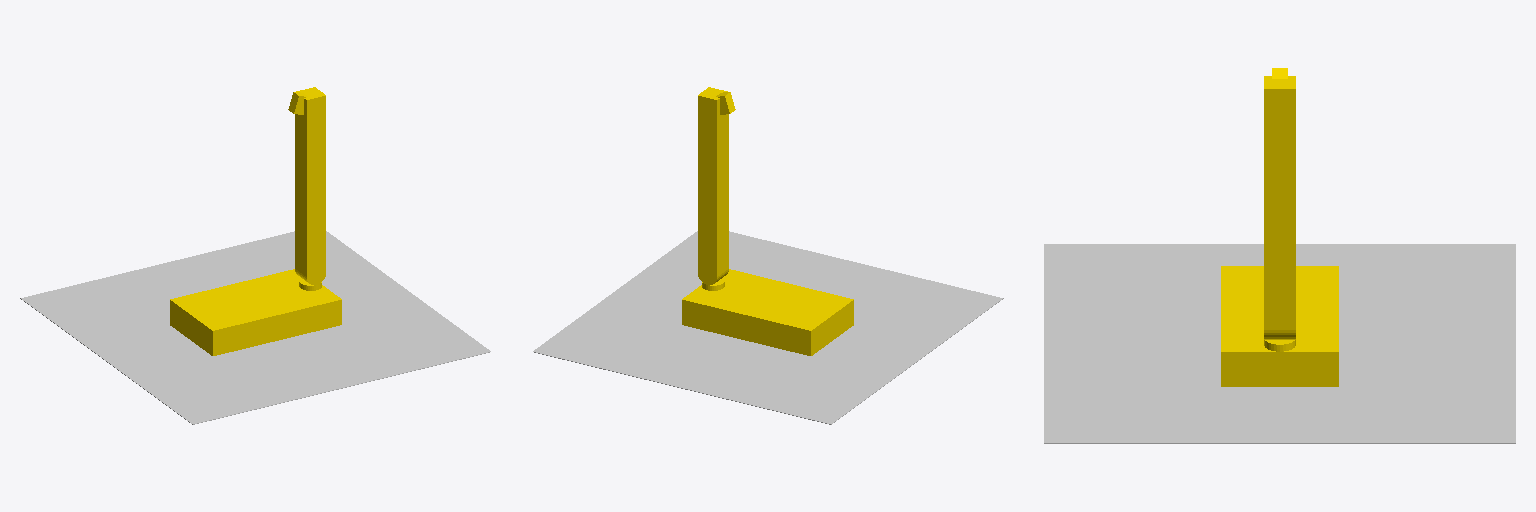
URDF robot description (rover_crane_sawyer):
<?xml version="1.0" ?>
<robot name="rover_crane_sawyer">

    <material name="black">
        <color rgba="0 0 0 1"/>
    </material>
    <material name="gold">
        <color rgba="1 0.882 0 1"/>
    </material>
    <material name="lunar_surface">
        <color rgba="0.85 0.85 0.85 1"/>
    </material>

    <material name="darkgray">
        <color rgba=".2 .2 .2 1"/>
    </material>
    <material name="darkred">
        <color rgba=".5 .1 .1 1"/>
        </material>
    <material name="sawyer_red">
        <color rgba=".5 .1 .1 1"/>
        </material>
    <material name="sawyer_gray">
        <color rgba="0.75294 0.75294 0.75294 1"/>
    </material>

<!-- Start Rover -->
    <!-- Base -->
    <link name="rover_base_link">
        <visual>
            <origin xyz="0 0 0.005" rpy="0 0 0" />
            <geometry>
               <box size="6 6 0.01"/>
            </geometry>
            <material name="lunar_surface"/>
        </visual>
        <collision>
            <origin xyz="0 0 0.005" rpy="0 0 0" />
            <geometry>
                <box size="6 6 0.01"/>
            </geometry>
        </collision>   
        
        <visual>
            <origin xyz="0 0 0.25" rpy="0 0 0" />
            <geometry>
               <box size="2.6 1.5 0.5"/>
            </geometry>
            <material name="gold"/>
        </visual>
        <collision>
            <origin xyz="0 0 0.25" rpy="0 0 0" />
            <geometry>
                <box size="2.6 1.5 0.5"/>
            </geometry>
        </collision>   
    </link>
    
    <link name="crane_yaw">
        <visual>
            <origin xyz="0 0 0.05" rpy="0 0 0" />
            <geometry>
               <cylinder length="0.1" radius="0.2"/>
            </geometry>
            <material name="gold"/>
        </visual>
        <collision>
            <origin xyz="0 0 0.05" rpy="0 0 0" />
            <geometry>
                <cylinder length="0.1" radius="0.2"/>
            </geometry>
        </collision>    
    </link>
    
    <joint name="joint0_1" type="revolute">
        <parent link="rover_base_link"/>
        <child link="crane_yaw"/>
        <origin xyz="1.1 0 0.5" rpy="0 0 0"/>
        <axis xyz="0 0 1"/>
        <limit lower="-0.523599" upper="0.523599" effort="0" velocity="0"/>
    </joint>

    <link name="crane_link1">
        <visual>
            <origin xyz="0 0 0" rpy="1.5708 0 0" />
            <geometry>
               <cylinder length="0.4" radius="0.2"/>
            </geometry>
            <material name="gold"/>
        </visual>
        <collision>
            <origin xyz="0 0 0" rpy="1.5708 0 0" />
            <geometry>
                <cylinder length="0.4" radius="0.2"/>
            </geometry>
        </collision>  

        <visual>
            <origin xyz="-1.698 0 0" rpy="0 0 0" />
            <geometry>
               <box size="3.396 0.4 0.4"/>
            </geometry>
            <material name="gold"/>
        </visual>
        <collision>
            <origin xyz="-1.698 0 0" rpy="0 0 0" />
            <geometry>
                <box size="3.396 0.4 0.4"/>
            </geometry>
        </collision>
    </link>


    <joint name="joint0_2" type="revolute">
        <parent link="crane_yaw"/> 
        <child link="crane_link1"/>
        <origin xyz="0 0 0.3" rpy="0 1.5708 0"/>
        <axis xyz="0 1 0"/>
        <limit lower="0.0" upper="1.5708" effort="0" velocity="0"/>
    </joint>


    <link name="crane_link2">
        <visual>
            <origin xyz="1.132 0 0" rpy="0 0 0" />
            <geometry>
               <box size="2.264 0.2 0.2"/>
            </geometry>
            <material name="gold"/>
        </visual>
        <collision>
            <origin xyz="1.132 0 0" rpy="0 0 0" />
            <geometry>
                <box size="2.264 0.2 0.2"/>
            </geometry>
        </collision>
    </link>

    <joint name="joint0_3" type="prismatic">
        <parent link="crane_link1"/>
        <child link="crane_link2"/>
        <origin xyz="-3.396 0 0" rpy="0 0 0"/>
        <axis xyz="-1 0 0"/>
        <limit lower="0.0" upper="2.264" effort="0" velocity="0"/>
    </joint>
    
    <link name="tip">
        <visual>
            <!-- z = (-0.17 - 0.1) -->
            <origin xyz="-0.1 0 -0.17" rpy="0 1.5708 0" />
            <geometry>
               <box size="0.34 0.2 0.2"/>
            </geometry>
            <material name="gold"/>
        </visual>
        <collision>
            <origin xyz="-0.1 0 -0.17" rpy="0 1.5708 0" />
            <geometry>
                <box size="0.34 0.2 0.2"/>
            </geometry>
        </collision>   
    </link>

    <joint name="tip_joint" type="fixed">
        <parent link="crane_link2"/>
        <child link="tip"/>
        <origin xyz="0 0 -0.1" rpy="0 -1.26165662836 0"/>
    </joint>

<!-- START SAWYER -->
  <link name="base"/>

<!-- CHANGE WHERE SAWYER IS PLACED HERE -->
<!-- SAWYER ATTACHED TO ARM TIP
    <joint name="sawyer_rover_fix" type="fixed">
        <parent link="tip"/>
        <child link="base"/>
        <origin xyz="0 0 0" rpy="0 0 0"/>
    </joint>
-->
<!-- <box size="2.4 1.5 0.5"/> -->
<!-- SAWYER ATTACHED TO ROVER DECK
    <joint name="sawyer_rover_fix" type="fixed">
        <parent link="rover_base_link"/>
        <child link="base"/>
        <origin xyz="0 0 0.5" rpy="0 0 0"/>
    </joint>
-->
<!-- SAWYER ATTACHED TO ROVER FRONT BUMPER -->
    <joint name="sawyer_rover_fix" type="fixed">
        <parent link="rover_base_link"/>
        <child link="base"/>
        <origin xyz="-1.0 0.5 0.5" rpy="0 0 0"/>
    </joint>

  <link name="torso">
    <visual>
      <origin rpy="0 0 0" xyz="0 0 0"/>
      <geometry>
        <box size="0.001 0.001 0.001"/>
      </geometry>
      <material name="darkgray">
        <color rgba=".2 .2 .2 1"/>
      </material>
    </visual>
  </link>

  <joint name="right_arm_mount" type="fixed">
    <origin rpy="0 0 0" xyz="0.0 0.0 0.0"/>
    <parent link="base"/>
    <child link="right_arm_base_link"/>
  </joint>

  <joint name="torso_t0" type="fixed">
    <origin rpy="0 0 0" xyz="0 0 0"/>
    <parent link="base"/>
    <child link="torso"/>
  </joint>

  <link name="right_arm_base_link">
    <inertial>
      <origin rpy="0 0 0" xyz="-0.0006241 -2.8025E-05 0.065404"/>
      <mass value="2.0687"/>
      <inertia ixx="0.0067599" ixy="-4.2024E-05" ixz="-6.1904E-07" iyy="0.0067877" iyz="1.5888E-05" izz="0.0074031"/>
    </inertial>
    <visual>
      <origin rpy="0 0 0" xyz="0 0 0"/>
      <geometry>
        <mesh filename="package://../sawyer/meshes/sawyer_pv/base.DAE"/>
      </geometry>
      <material name="sawyer_red"/>
    </visual>
    <collision>
      <origin rpy="0 0 0" xyz="0 0 0.12"/>
      <geometry>
        <cylinder length="0.24" radius="0.08"/>
      </geometry>
    </collision>
  </link>

  <link name="right_l0">
    <inertial>
      <origin rpy="0 0 0" xyz="0.024366 0.010969 0.14363"/>
      <mass value="5.3213"/>
      <inertia ixx="0.053314" ixy="0.0047093" ixz="0.011734" iyy="0.057902" iyz="0.0080179" izz="0.023659"/>
    </inertial>
    <visual>
      <origin rpy="0 0 0" xyz="0 0 0"/>
      <geometry>
        <mesh filename="package://../sawyer/meshes/sawyer_mp3/l0.DAE"/>
      </geometry>
      <material name="sawyer_red"/>
    </visual>
    <collision>
      <origin rpy="0 0 0" xyz="0.08 0 0.23"/>
      <geometry>
        <sphere radius="0.07"/>
      </geometry>
    </collision>
  </link>

  <joint name="right_j0" type="revolute">
    <origin rpy="0 0 0" xyz="0 0 0.08"/>
    <parent link="right_arm_base_link"/>
    <child link="right_l0"/>
    <axis xyz="0 0 1"/>
    <limit effort="80.0" lower="-3.0503" upper="3.0503" velocity="1.74"/>
  </joint>

  <link name="right_torso_itb">
  </link>

  <joint name="right_torso_itb" type="fixed">
    <origin rpy="0 -1.57079632679 0" xyz="-.055 0 .22"/>
    <parent link="right_l0"/>
    <child link="right_torso_itb"/>
    <axis xyz="0 0 1"/>
  </joint>
  <link name="right_l1">
    <inertial>
      <origin rpy="0 0 0" xyz="-0.0030849 -0.026811 0.092521"/>
      <mass value="4.505"/>
      <inertia ixx="0.022398" ixy="-0.00023986" ixz="-0.00029362" iyy="0.014613" iyz="-0.0060875" izz="0.017295"/>
    </inertial>
    <visual>
      <origin rpy="0 0 0" xyz="0 0 0"/>
      <geometry>
        <mesh filename="package://../sawyer/meshes/sawyer_mp3/l1.DAE"/>
      </geometry>
      <material name="sawyer_red"/>
    </visual>
    <collision>
      <origin rpy="0 0 0" xyz="0 0 0.1225"/>
      <geometry>
        <sphere radius="0.07"/>
      </geometry>
    </collision>
  </link>

  <joint name="right_j1" type="revolute">
    <origin rpy="-1.57079632679 1.57079632679 0" xyz="0.081 0.05 0.237"/>
    <parent link="right_l0"/>
    <child link="right_l1"/>
    <axis xyz="0 0 1"/>
    <limit effort="80.0" lower="-3.8095" upper="2.2736" velocity="1.328"/>
  </joint>
  <link name="right_l2">
    <inertial>
      <origin rpy="0 0 0" xyz="-0.00016044 -0.014967 0.13582"/>
      <mass value="1.745"/>
      <inertia ixx="0.025506" ixy="4.4101E-06" ixz="1.4955E-05" iyy="0.0253" iyz="-0.0033204" izz="0.0034179"/>
    </inertial>
    <visual>
      <origin rpy="0 0 0" xyz="0 0 0"/>
      <geometry>
        <mesh filename="package://../sawyer/meshes/sawyer_pv/l2.DAE"/>
      </geometry>
      <material name="sawyer_red"/>
    </visual>
    <collision>
      <origin rpy="0 0 0" xyz="0 0 0.08"/>
      <geometry>
        <cylinder length="0.34" radius="0.06"/>
      </geometry>
    </collision>
  </link>
  <joint name="right_j2" type="revolute">
    <origin rpy="1.57079632679 0 0" xyz="0 -0.14 0.1425"/>
    <parent link="right_l1"/>
    <child link="right_l2"/>
    <axis xyz="0 0 1"/>
    <limit effort="40.0" lower="-3.0426" upper="3.0426" velocity="1.957"/>
  </joint>
  <link name="right_l3">
    <inertial>
      <origin rpy="0 0 0" xyz="-0.0048135 -0.0281 -0.084154"/>
      <mass value="2.5097"/>
      <inertia ixx="0.01016" ixy="-9.7452E-06" ixz="0.00026624" iyy="0.0065685" iyz="0.0030316" izz="0.0069078"/>
    </inertial>
    <visual>
      <origin rpy="0 0 0" xyz="0 0 0"/>
      <geometry>
        <mesh filename="package://../sawyer/meshes/sawyer_pv/l3.DAE"/>
      </geometry>
      <material name="sawyer_red"/>
    </visual>
    <collision>
      <origin rpy="0 0 0" xyz="0 -0.01 -0.12"/>
      <geometry>
        <sphere radius="0.06"/>
      </geometry>
    </collision>
  </link>
  <joint name="right_j3" type="revolute">
    <origin rpy="-1.57079632679 0 0" xyz="0 -0.042 0.26"/>
    <parent link="right_l2"/>
    <child link="right_l3"/>
    <axis xyz="0 0 1"/>
    <limit effort="40.0" lower="-3.0439" upper="3.0439" velocity="1.957"/>
  </joint>
  <link name="right_l4">
    <inertial>
      <origin rpy="0 0 0" xyz="-0.0018844 0.0069001 0.1341"/>
      <mass value="1.1136"/>
      <inertia ixx="0.013557" ixy="1.8109E-05" ixz="0.00013523" iyy="0.013555" iyz="0.0010561" izz="0.0013658"/>
    </inertial>
    <visual>
      <origin rpy="0 0 0" xyz="0 0 0"/>
      <geometry>
        <mesh filename="package://../sawyer/meshes/sawyer_pv/l4.DAE"/>
      </geometry>
      <material name="sawyer_red"/>
    </visual>
    <collision>
      <origin rpy="0 0 0" xyz="0 0 0.11"/>
      <geometry>
        <cylinder length="0.30" radius="0.045"/>
      </geometry>
    </collision>
  </link>
  <joint name="right_j4" type="revolute">
    <origin rpy="1.57079632679 0 0" xyz="0 -0.125 -0.1265"/>
    <parent link="right_l3"/>
    <child link="right_l4"/>
    <axis xyz="0 0 1"/>
    <limit effort="9.0" lower="-2.9761" upper="2.9761" velocity="3.485"/>
  </joint>
  <link name="right_arm_itb">

  </link>
  <joint name="right_arm_itb" type="fixed">
    <origin rpy="0 -1.57079632679 0" xyz="-.055 0 .075"/>
    <parent link="right_l4"/>
    <child link="right_arm_itb"/>
    <axis xyz="0 0 1"/>
  </joint>
  <link name="right_l5">
    <inertial>
      <origin rpy="0 0 0" xyz="0.0061133 -0.023697 0.076416"/>
      <mass value="1.5625"/>
      <inertia ixx="0.0047328" ixy="0.00011526" ixz="4.6269E-05" iyy="0.0029676" iyz="-0.0011557" izz="0.0031762"/>
    </inertial>
    <visual>
      <origin rpy="0 0 0" xyz="0 0 0"/>
      <geometry>
        <mesh filename="package://../sawyer/meshes/sawyer_pv/l5.DAE"/>
      </geometry>
      <material name="sawyer_red"/>
    </visual>
    <collision>
      <origin rpy="0 0 0" xyz="0 0 0.1"/>
      <geometry>
        <sphere radius="0.06"/>
      </geometry>
    </collision>
  </link>
  <joint name="right_j5" type="revolute">
    <origin rpy="-1.57079632679 0 0" xyz="0 0.031 0.275"/>
    <parent link="right_l4"/>
    <child link="right_l5"/>
    <axis xyz="0 0 1"/>
    <limit effort="9.0" lower="-2.9761" upper="2.9761" velocity="3.485"/>
  </joint>
  <link name="right_hand_camera"/>
  <joint name="right_hand_camera" type="fixed">
    <origin rpy="0 1.57079632679 0" xyz="0.039552 -0.033 0.0695"/>
    <parent link="right_l5"/>
    <child link="right_hand_camera"/>
    <axis xyz="0 0 0"/>
  </joint>
  <link name="right_wrist"/>
  <joint name="right_wrist" type="fixed">
    <origin rpy="1.57079632679 0 0" xyz="0 0 0.10541"/>
    <parent link="right_l5"/>
    <child link="right_wrist"/>
    <axis xyz="0 0 0"/>
  </joint>
  <link name="right_l6">
    <inertial>
      <origin rpy="0 0 0" xyz="-8.0726E-06 0.0085838 -0.0049566"/>
      <mass value="0.3292"/>
      <inertia ixx="0.00031105" ixy="1.4771E-06" ixz="-3.7074E-07" iyy="0.00021549" iyz="-8.4533E-06" izz="0.00035976"/>
    </inertial>
    <visual>
      <origin rpy="0 0 0" xyz="0 0 0"/>
      <geometry>
        <mesh filename="package://../sawyer/meshes/sawyer_mp1/l6.DAE"/>
      </geometry>
      <material name="sawyer_red"/>
    </visual>
    <collision>
      <origin rpy="0 0 0" xyz="0 0.015 -0.01"/>
      <geometry>
        <cylinder length="0.05" radius="0.055"/>
      </geometry>
    </collision>
  </link>
  <joint name="right_j6" type="revolute">
    <origin rpy="-1.57079632679 -0.17453 3.1416" xyz="0 -0.11 0.1053"/>
    <parent link="right_l5"/>
    <child link="right_l6"/>
    <axis xyz="0 0 1"/>
    <limit effort="80.0" velocity="2.0" lower="-3.14159" upper="3.14159"/>
  </joint>
  <link name="right_hand">
    <collision>
      <origin rpy="0 0 0" xyz="0 0 0.02"/>
      <geometry>
        <cylinder length="0.03" radius="0.035"/>
      </geometry>
    </collision>
  </link>
  <joint name="right_hand" type="fixed">
    <origin rpy="0 0 1.570796" xyz="0 0 0.0245"/>
    <axis xyz="0 0 1"/>
    <parent link="right_l6"/>
    <child link="right_hand"/>
  </joint>
  <link name="right_l1_2">
    <collision>
      <origin rpy="0 0 0" xyz="0 0 0.035"/>
      <geometry>
        <cylinder length="0.14" radius="0.07"/>
      </geometry>
    </collision>
  </link>
  <joint name="right_j1_2" type="fixed">
    <origin rpy="0 0 0" xyz="0 0 0"/>
    <parent link="right_l1"/>
    <child link="right_l1_2"/>
    <axis xyz="0 0 1"/>
  </joint>
  <link name="right_l2_2">
    <collision>
      <origin rpy="0 0 0" xyz="0 0 0.26"/>
      <geometry>
        <sphere radius="0.06"/>
      </geometry>
    </collision>
  </link>
  <joint name="right_j2_2" type="fixed">
    <origin rpy="0 0 0" xyz="0 0 0"/>
    <parent link="right_l2"/>
    <child link="right_l2_2"/>
    <axis xyz="0 0 1"/>
  </joint>
  <link name="right_l4_2">
    <collision>
      <origin rpy="0 0 0" xyz="0 0.01 0.26"/>
      <geometry>
        <sphere radius="0.06"/>
      </geometry>
    </collision>
  </link>
  <joint name="right_j4_2" type="fixed">
    <origin rpy="0 0 0" xyz="0 0 0"/>
    <parent link="right_l4"/>
    <child link="right_l4_2"/>
    <axis xyz="0 0 1"/>
  </joint>

</robot>

--- Facts derived from the render (not from the file) ---
Views: 3 orthographic renders of the robot side by side, from view 1: azimuth 30°, elevation 25°; view 2: azimuth 150°, elevation 25°; view 3: azimuth 270°, elevation 25°.
Model rover_crane_sawyer with 23 links and 22 joints (9 revolute, 1 prismatic, 12 fixed), rooted at rover_base_link, posed every joint at zero.
Links seen in each view (by area): view 1: rover_base_link, crane_link1; view 2: rover_base_link, crane_link1; view 3: rover_base_link, crane_link1.
Boxes of the visible links, bbox=[...] form: rover_base_link: bbox=[20, 231, 490, 424]; crane_link1: bbox=[295, 87, 325, 284]; rover_base_link: bbox=[533, 231, 1003, 424]; crane_link1: bbox=[698, 87, 728, 284]; rover_base_link: bbox=[1044, 244, 1515, 443]; crane_link1: bbox=[1264, 76, 1295, 339].
Size in the robot's own frame: 6 by 6 by 4.26 metres.
Geometry: only primitive shapes (box / cylinder / sphere) drawn; not drawn: 8 mesh visuals (reference in a form the renderer does not follow).